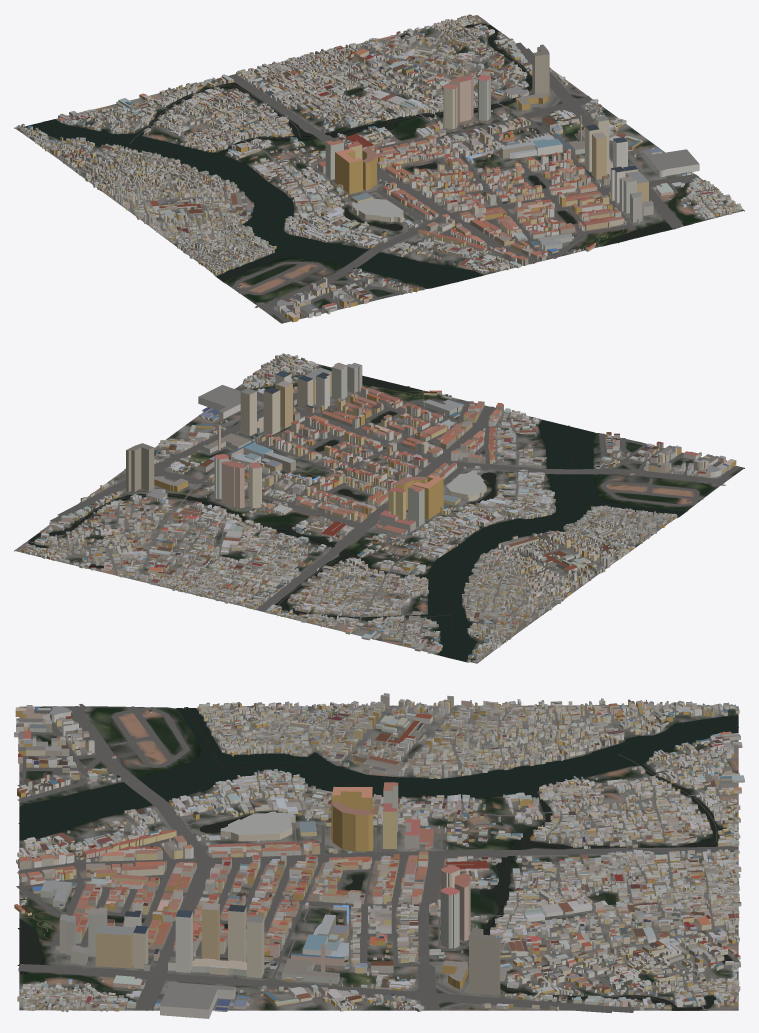
3 renders of one model, top to bottom at view 1: azimuth 30°, elevation 25°; view 2: azimuth 150°, elevation 25°; view 3: azimuth 270°, elevation 25°, orthographic. The views are drawn at different scales.
Visible parts, largest first — view 1: buildings, ground, roads, water; view 2: buildings, ground, roads, water; view 3: buildings, ground, roads, water.
Part boxes in pixels (x1,y1,x2,y2): buildings: [16, 14, 742, 322]; ground: [14, 15, 744, 323]; roads: [16, 15, 718, 322]; water: [26, 23, 688, 287]; buildings: [21, 353, 736, 662]; ground: [14, 359, 744, 663]; roads: [16, 368, 740, 662]; water: [28, 375, 685, 661]; buildings: [14, 693, 744, 1018]; ground: [19, 705, 738, 1010]; roads: [16, 704, 739, 1013]; water: [17, 707, 738, 1010].
Size of the model in its own units: 1450 by 126 by 1423.
